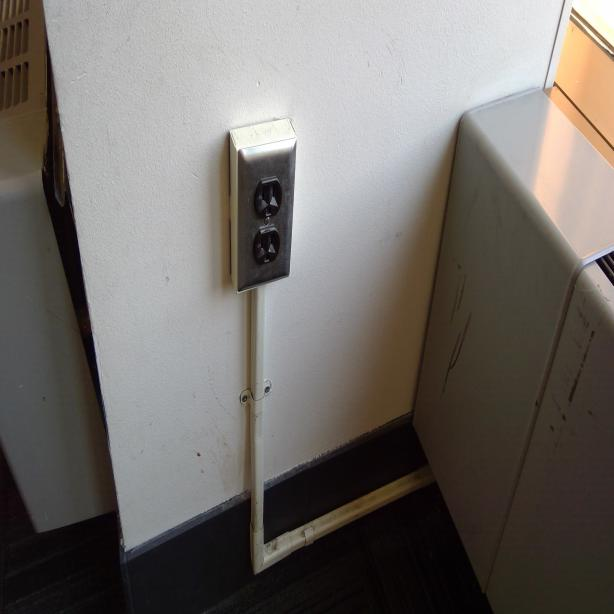typeb: (255, 228, 280, 267), (258, 180, 280, 216)
